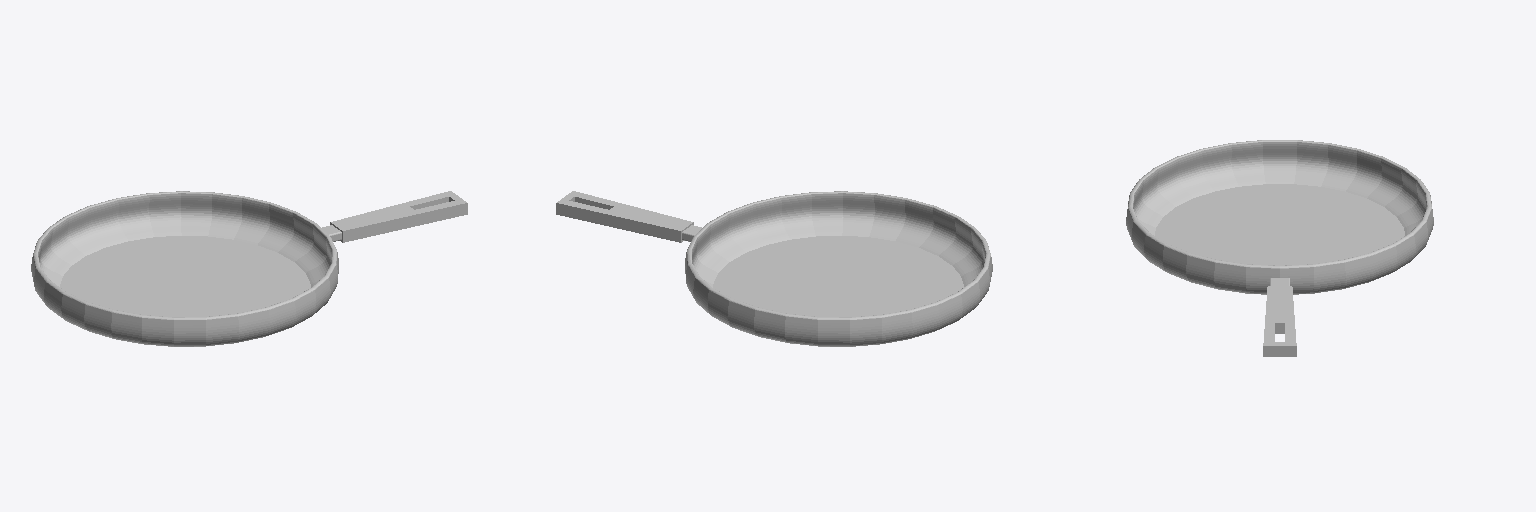
Rendered from Pan.obj.
3 views of the same model, side by side, from view 1: azimuth 30°, elevation 25°; view 2: azimuth 150°, elevation 25°; view 3: azimuth 270°, elevation 25° (orthographic).
Parts seen in each view (by area): view 1: pan, handle; view 2: pan, handle; view 3: pan, handle.
Boxes of the visible parts, x1,y1,x2,y2 form: pan: [31, 191, 338, 346]; handle: [330, 191, 467, 242]; pan: [685, 191, 992, 346]; handle: [556, 191, 693, 242]; pan: [1126, 140, 1433, 294]; handle: [1263, 286, 1296, 356].
Size of the model in its own units: 547 by 47.62 by 359.